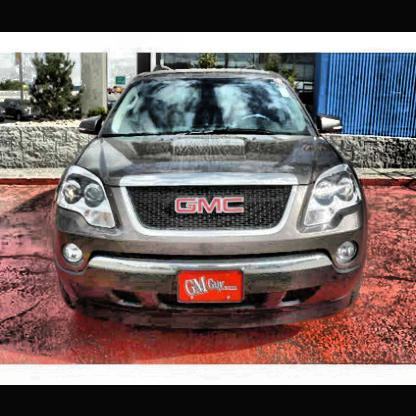GMC Acadia SUV 2012: (52, 72, 370, 332)
